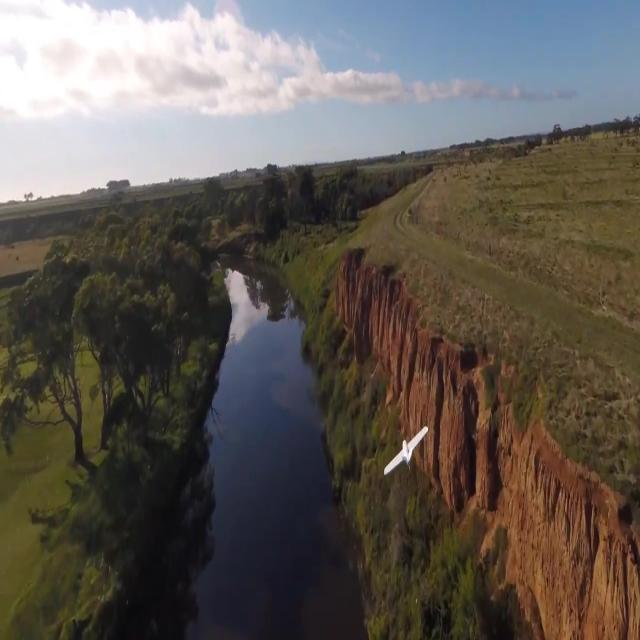iha: (383, 424, 427, 477)
